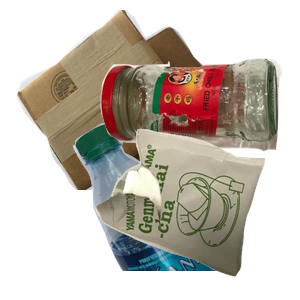cardboard: (14, 10, 222, 190)
glass: (98, 56, 300, 201)
plastic: (71, 120, 300, 300)
trash: (93, 126, 300, 300)
